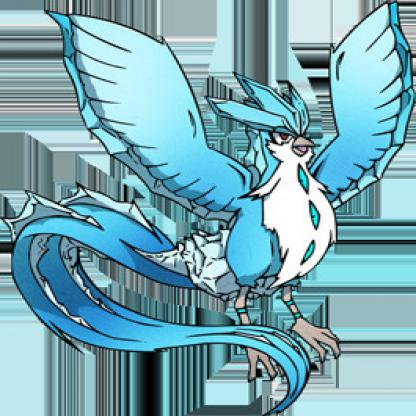Articuno: (1, 8, 416, 407)
